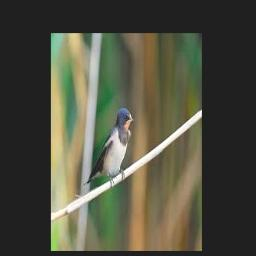Swallow: (84, 108, 136, 187)
